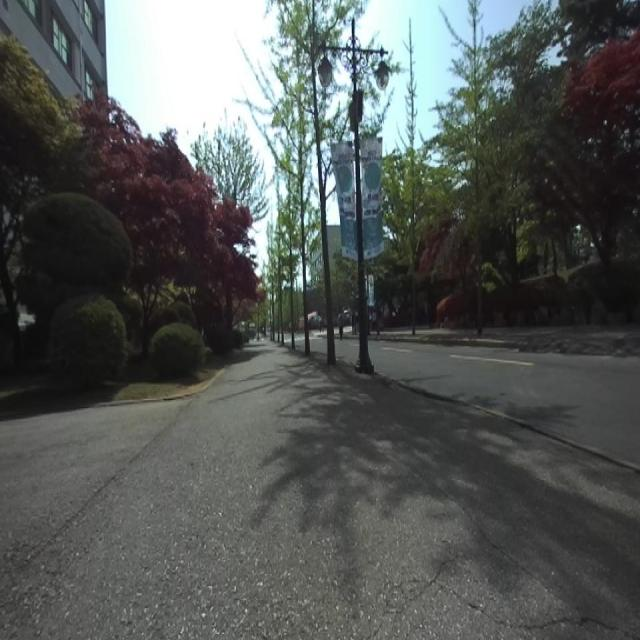sidewalk: (0, 340, 640, 638)
